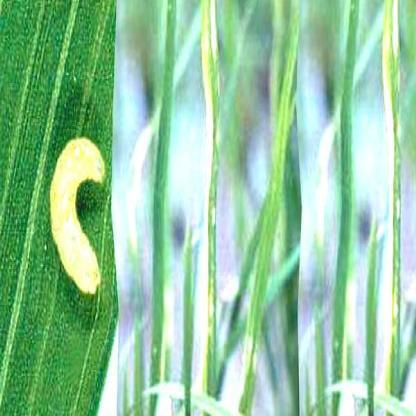whorl-maggot: (50, 131, 108, 304)
